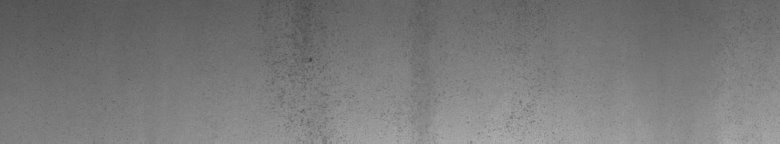ib: (271, 34, 330, 126)
